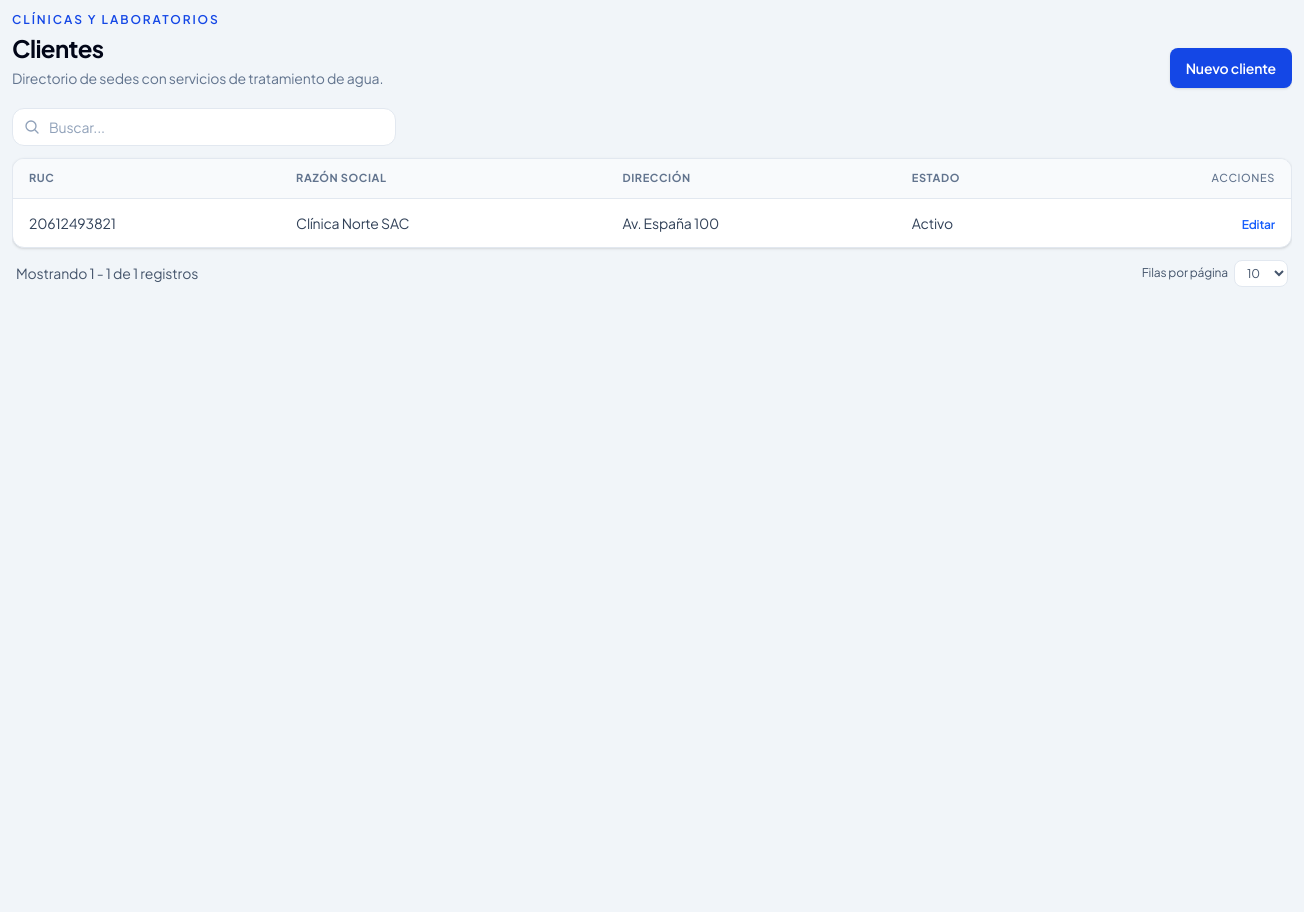
Test case: ClientesPage › muestra el 409 del backend (RUC duplicado) sin cerrar el formulario
The width and height of the screenshot is (1304, 912).
Click the button "Nuevo cliente" at (1231, 68), box [1170,48,1292,88]
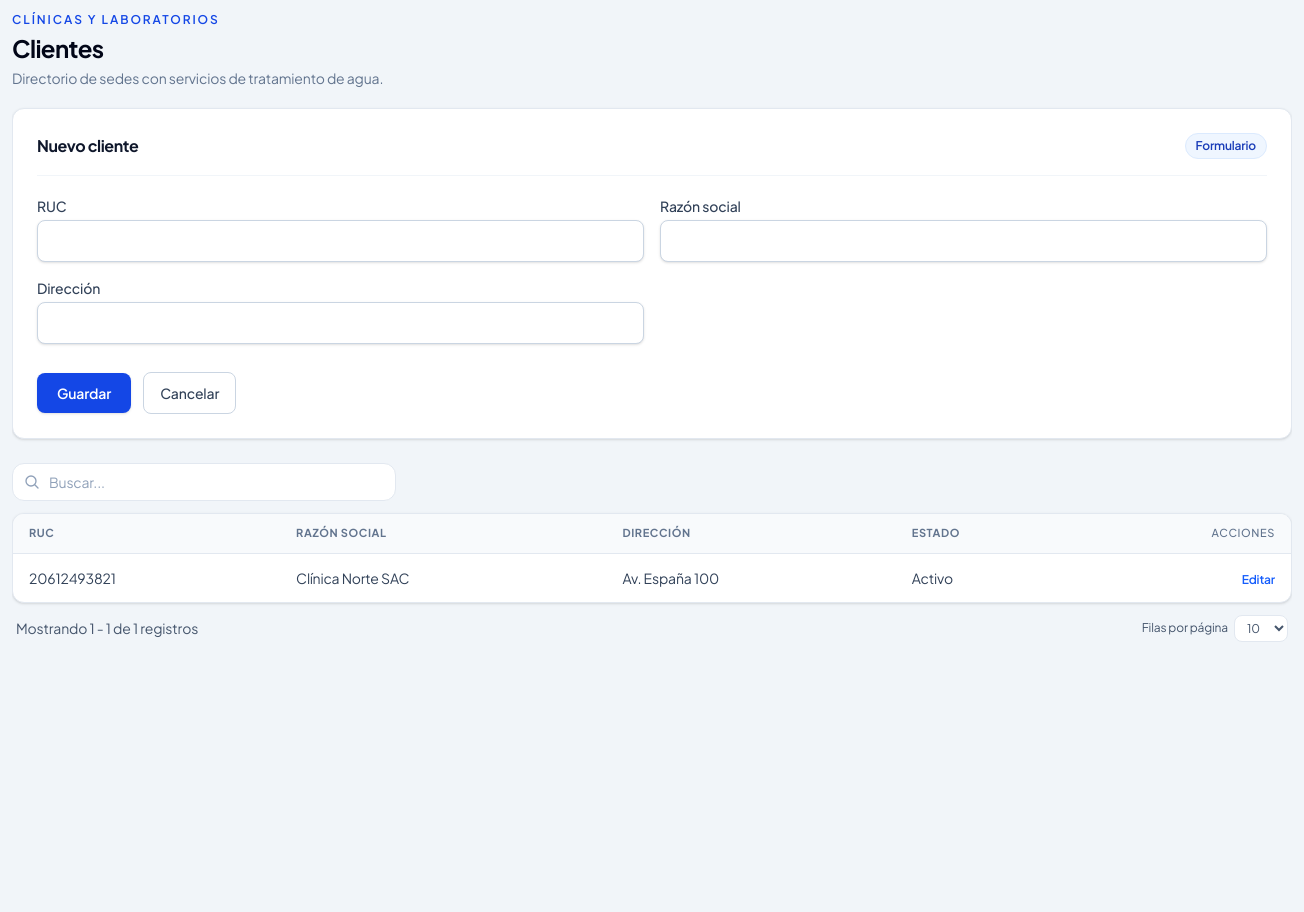
Type "20612493821" into the field labelled "RUC" at (340, 241), box [37,220,644,262]
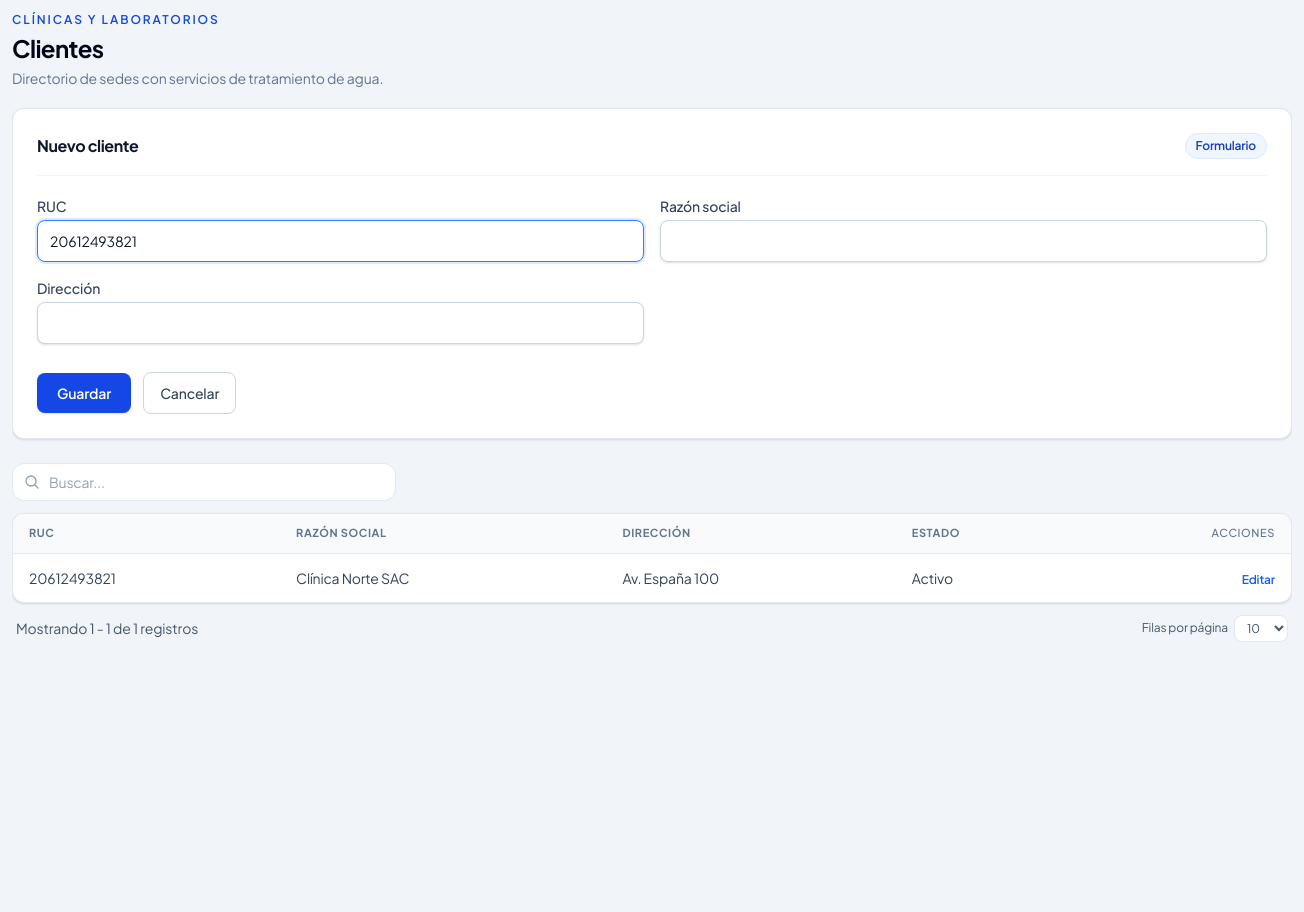
Type "Nueva SAC" into the field labelled "Razón social" at (964, 241), box [660,220,1267,262]
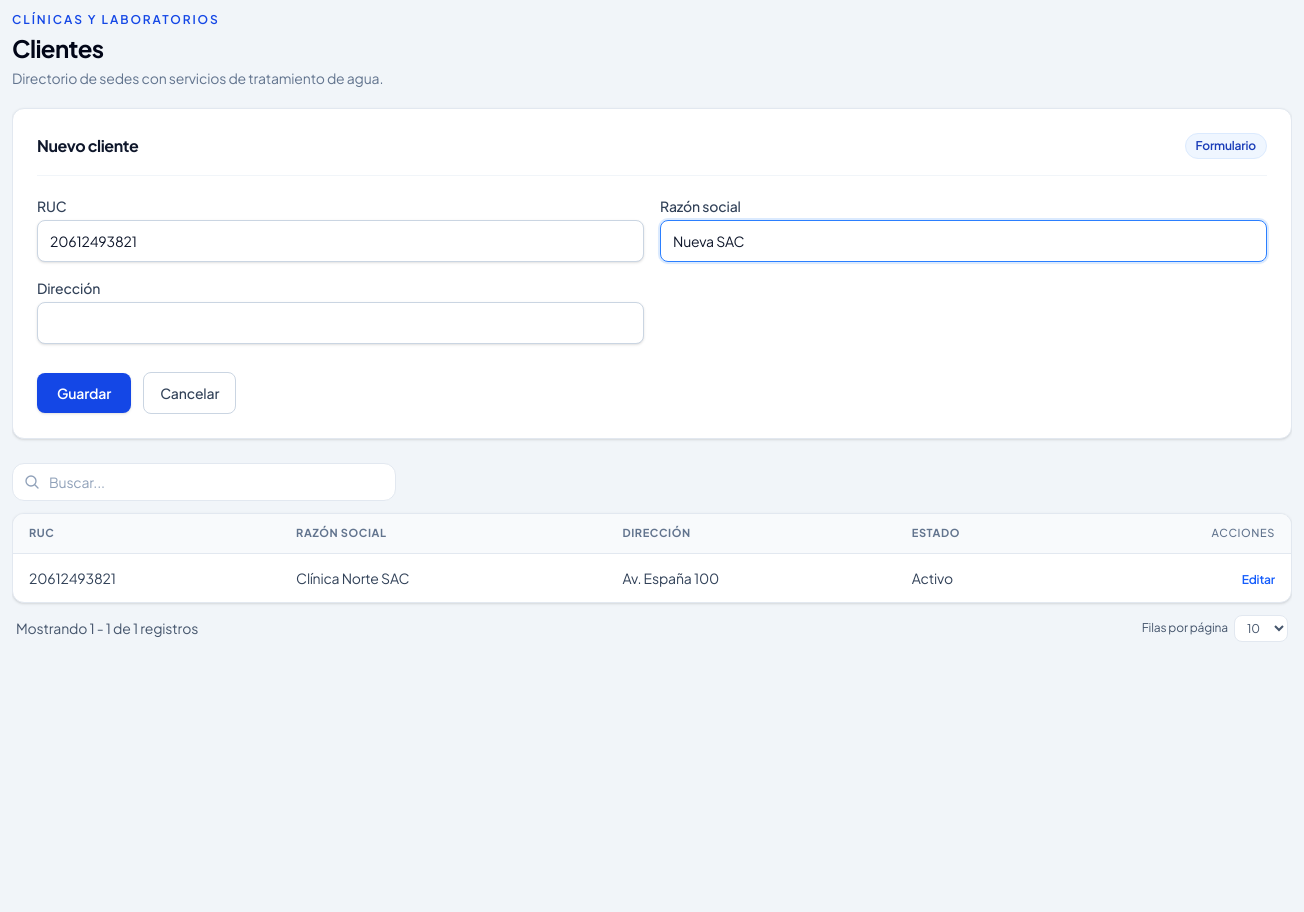
Type "Calle 1" into the field labelled "Dirección" at (340, 323), box [37,302,644,344]
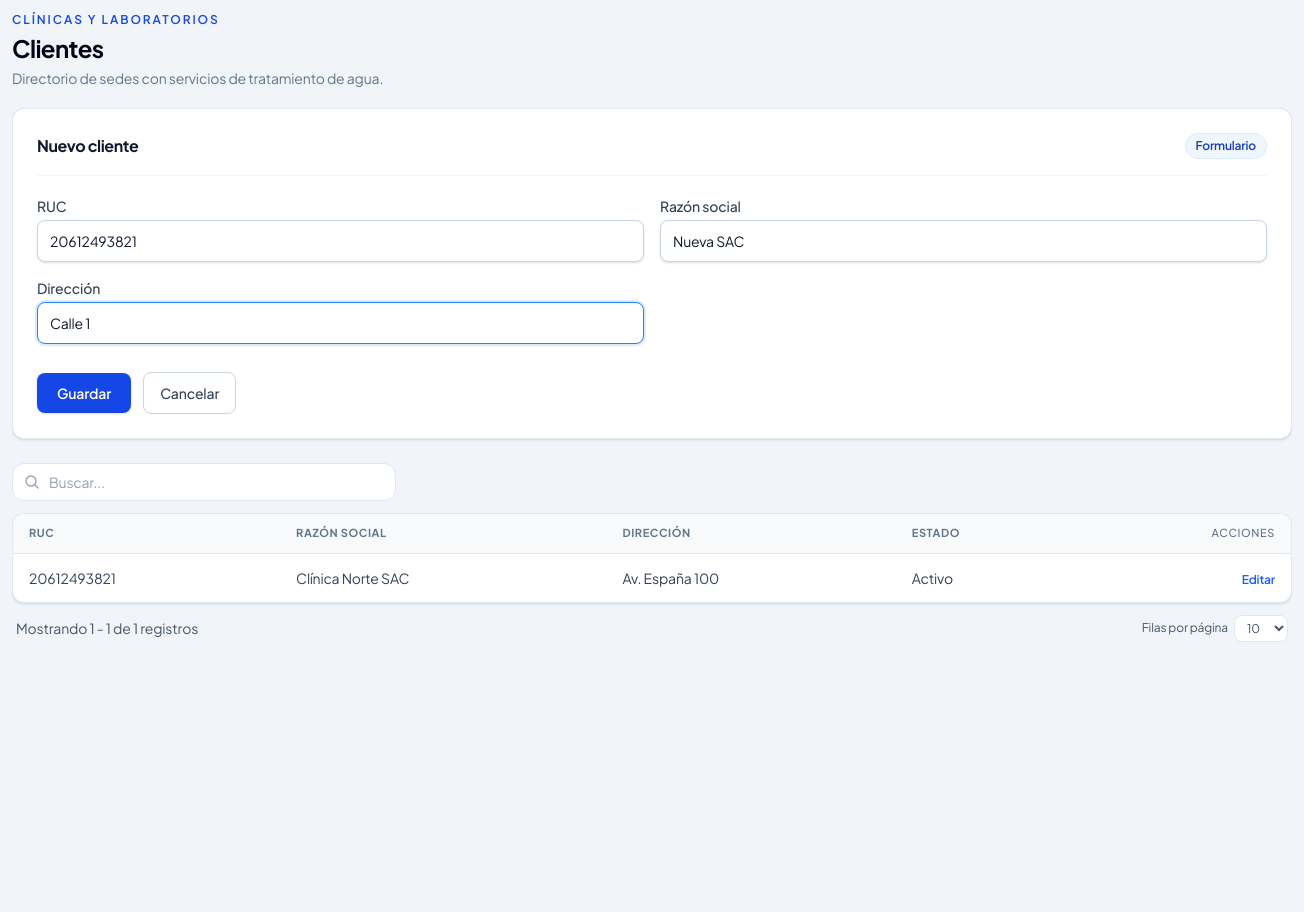
Click the button "Guardar" at (84, 393), box [37,373,131,413]
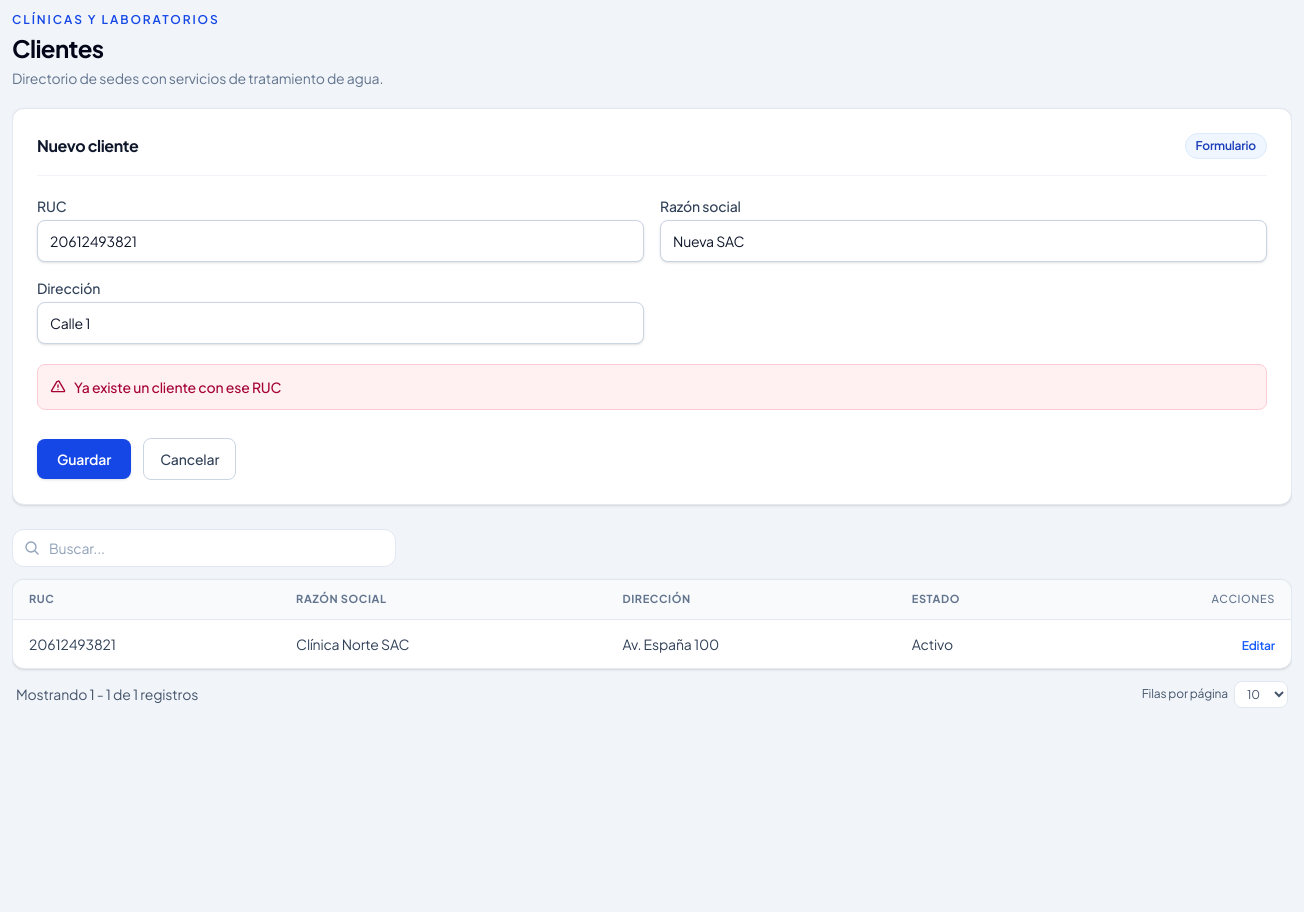
expect the message reads "Ya existe un cliente con ese RUC": met, box [74,378,281,396]
